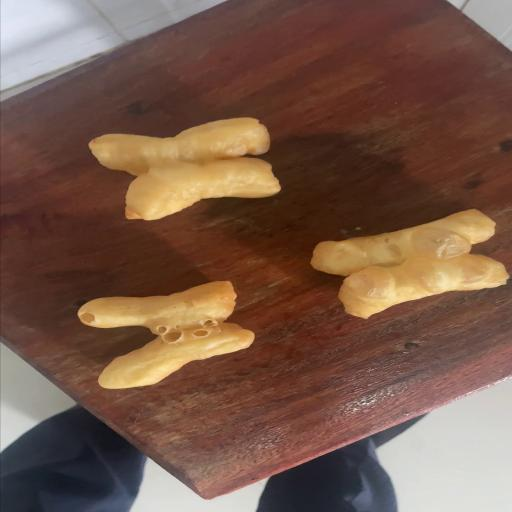street_golden_defect: (310, 210, 508, 317), (76, 282, 254, 386)
street_golden_good: (88, 119, 280, 219)
